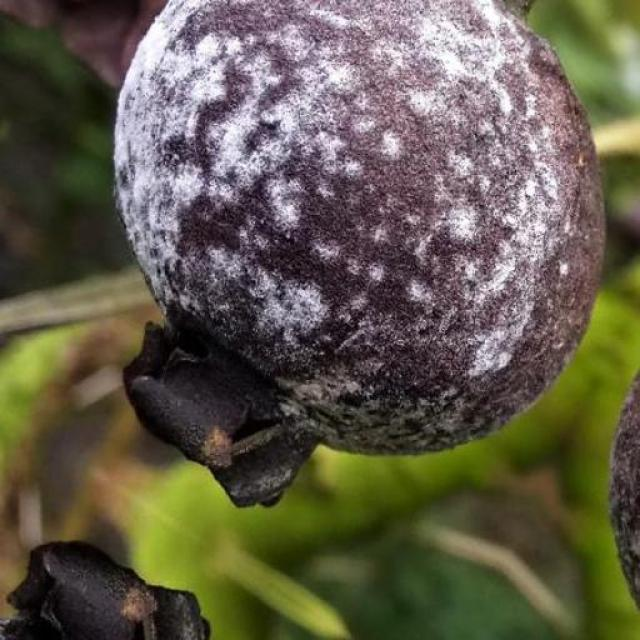Phytopthora: (116, 0, 604, 506)
